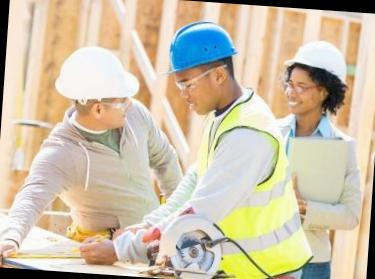helmet: (49, 42, 144, 107), (162, 15, 246, 82), (280, 40, 356, 84)
no_vest: (34, 96, 162, 262), (282, 121, 356, 250)
person: (145, 12, 289, 279), (14, 39, 161, 276), (262, 36, 370, 268)
